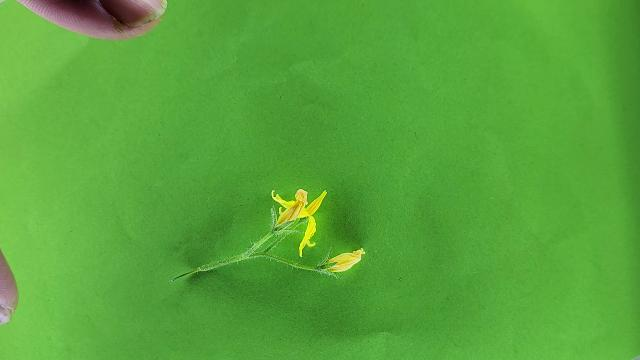Anthesis: (271, 186, 328, 257), (318, 245, 367, 274)
